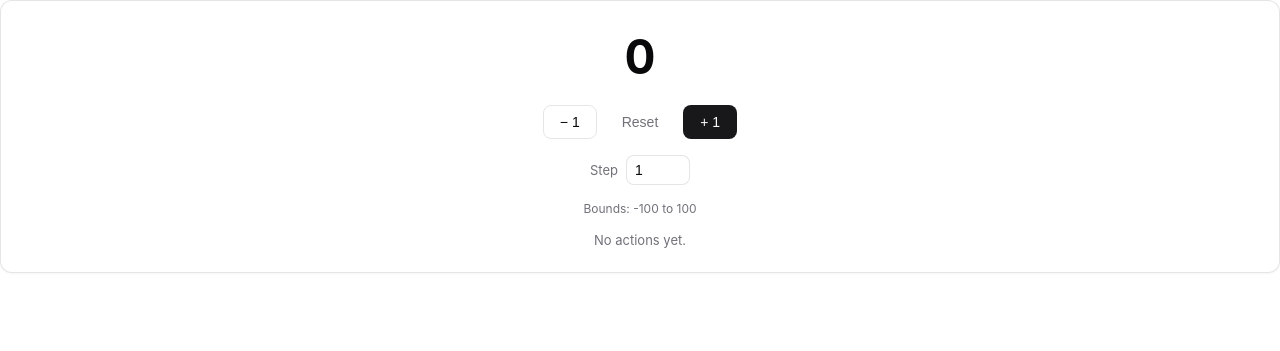
Test: increments and decrements by the current step
Click the button "+ 1": coordinates (710, 122) [683, 105, 737, 139]
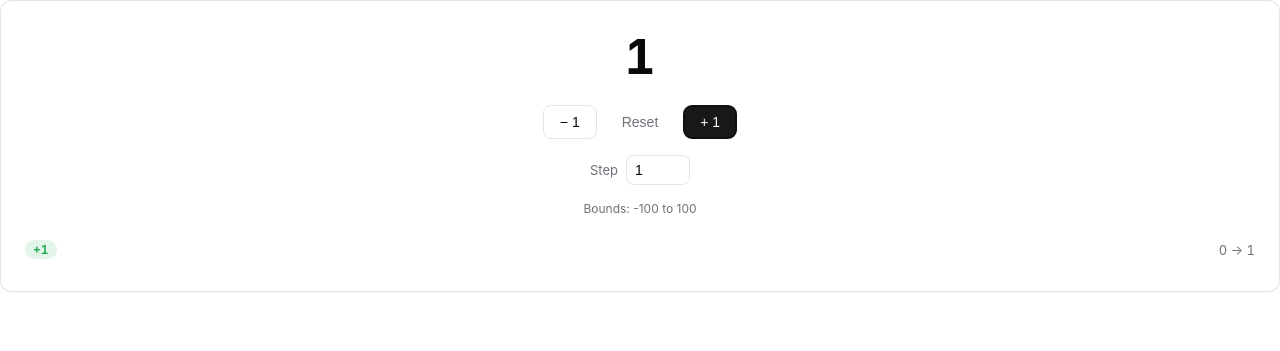
expect the text with test id "counter-value" reads "1": met, box [624, 27, 656, 86]
Click the button "− 1": coordinates (570, 122) [543, 105, 597, 139]
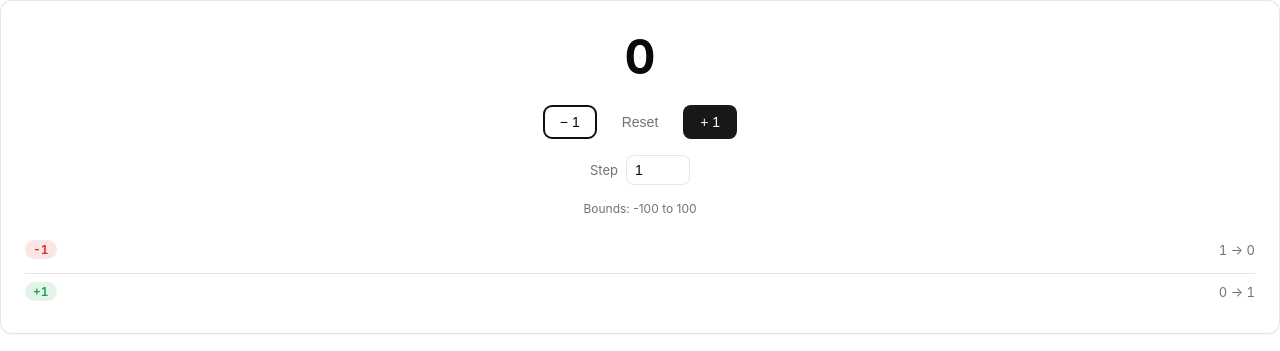
expect the text with test id "counter-value" reads "0": met, box [624, 27, 656, 86]
